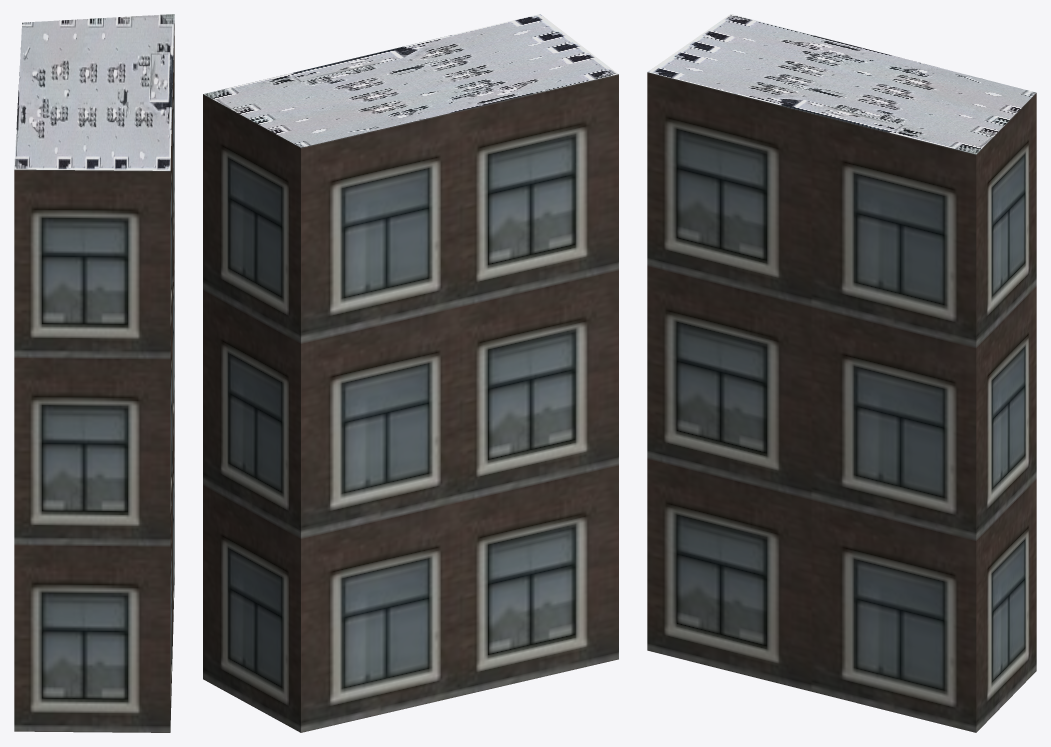
Rendered from ResTex__414.fbx.
The picture shows the model from 3 angles, left to right: view 1: azimuth 30°, elevation 25°; view 2: azimuth 150°, elevation 25°; view 3: azimuth 270°, elevation 25°; orthographic projection. The views are drawn at different scales.
Visible parts, largest first — view 1: CityEngineMaterial_16_m, CityEngineMaterial_15_m; view 2: CityEngineMaterial_16_m, CityEngineMaterial_15_m; view 3: CityEngineMaterial_16_m, CityEngineMaterial_15_m.
Boxes of the visible parts, x1=… form: CityEngineMaterial_16_m: x1=14, y1=23, x2=174, y2=732; CityEngineMaterial_15_m: x1=14, y1=14, x2=174, y2=170; CityEngineMaterial_16_m: x1=203, y1=74, x2=618, y2=732; CityEngineMaterial_15_m: x1=203, y1=14, x2=618, y2=147; CityEngineMaterial_16_m: x1=647, y1=72, x2=1036, y2=732; CityEngineMaterial_15_m: x1=647, y1=14, x2=1035, y2=154.
Size of the model in its own units: 4.69 by 9 by 5.49.
2 materials, 2 textured.
